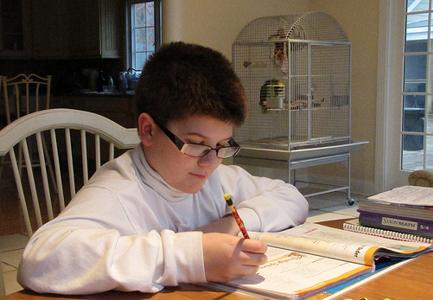person: (17, 41, 310, 297)
